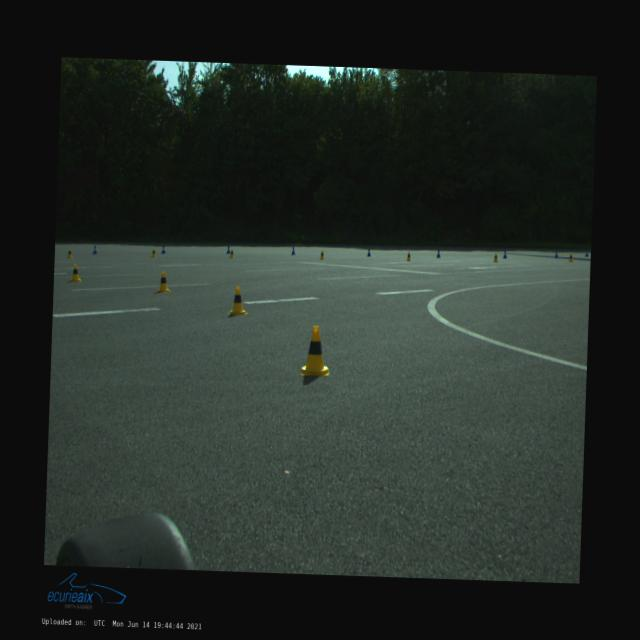blue_cone: (92, 245, 98, 254), (502, 250, 507, 258), (366, 248, 371, 256), (554, 250, 558, 258), (436, 250, 440, 258), (226, 245, 230, 253), (291, 247, 295, 254), (161, 246, 165, 253), (584, 250, 588, 256)
yellow_cone: (301, 325, 330, 376), (228, 286, 248, 314), (156, 270, 172, 292), (70, 263, 82, 282), (66, 248, 73, 258), (493, 252, 498, 262), (406, 251, 411, 261), (229, 248, 234, 258), (568, 253, 573, 261), (320, 250, 324, 259), (152, 248, 156, 256)
